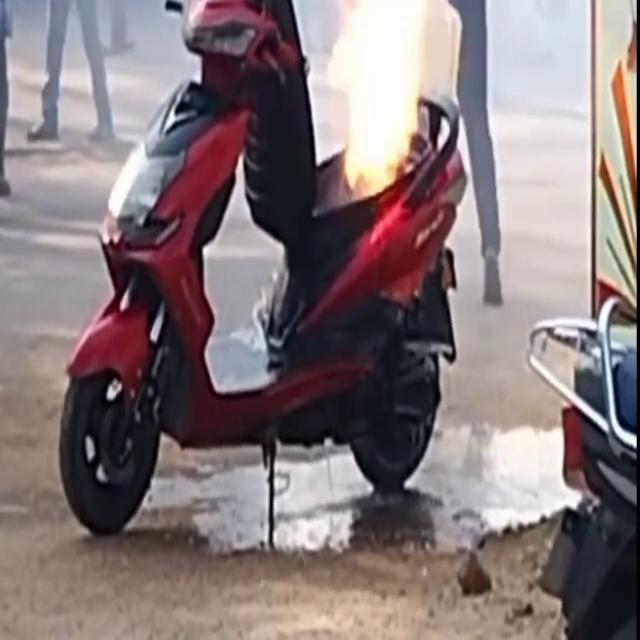Fire: (324, 1, 438, 202)
